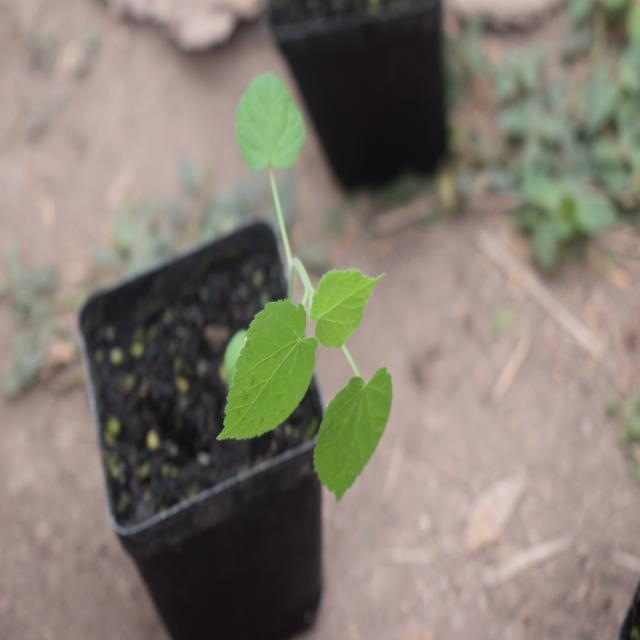abutilon theophrasti: (190, 58, 398, 494)
